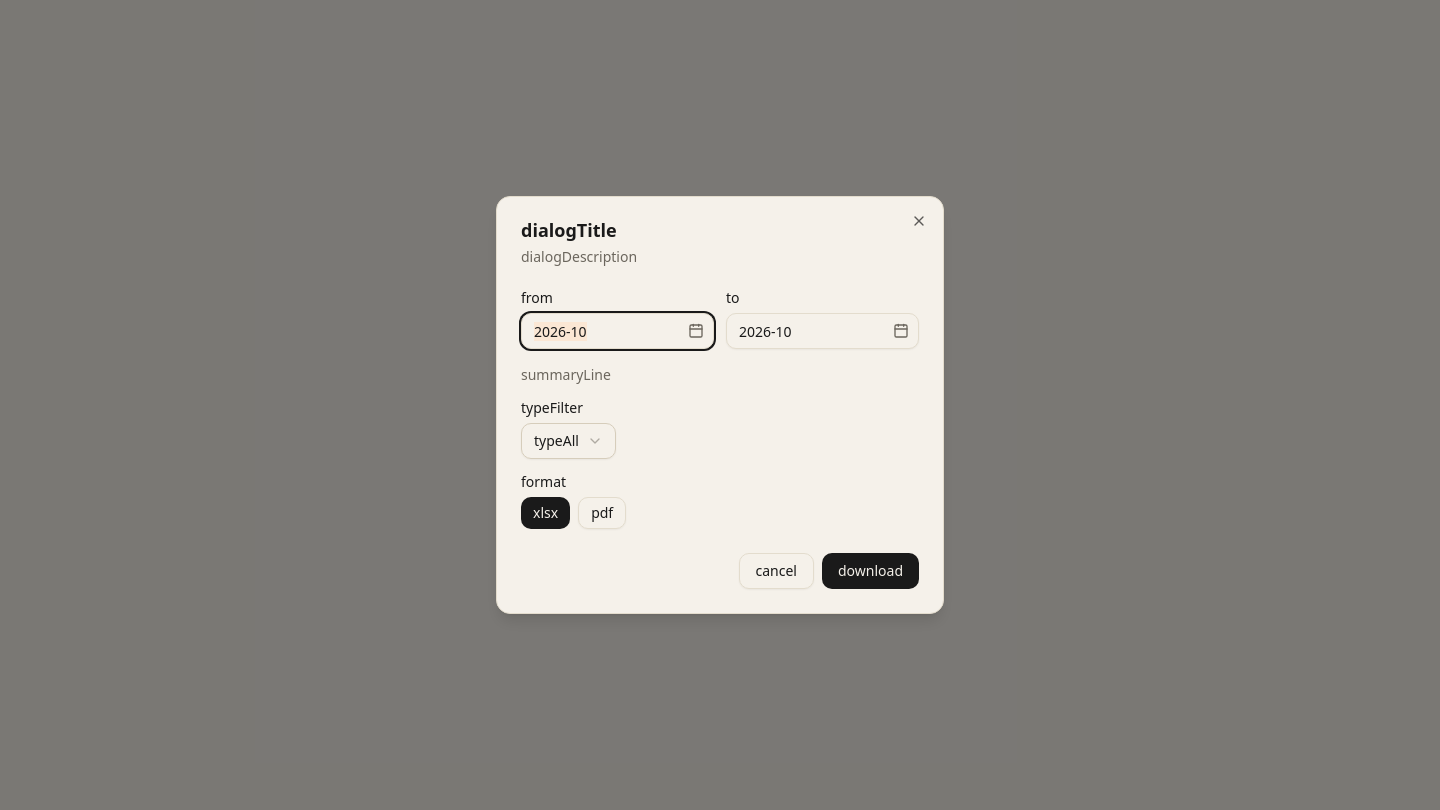
Test: InvoiceExportDialog — render › shows an inline format error for an unreadable month
Replace the text in the field with id "invoice-export-from" with "sept" at (618, 331), box [521,313,714,349]
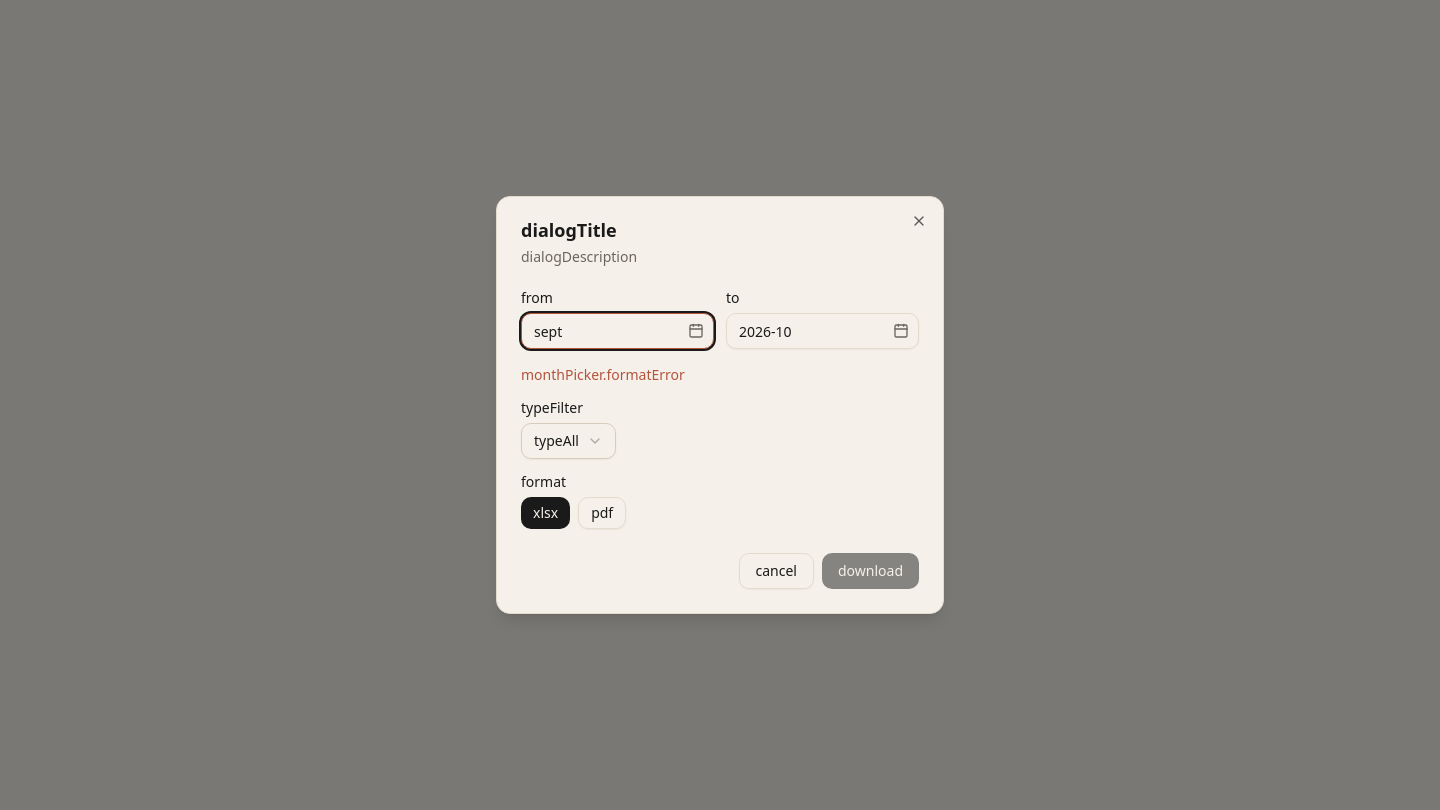
Expected: the text "monthPicker.formatError" is shown, [521,365,685,384]
Expected: the button "download" is disabled, [822,553,919,589]
